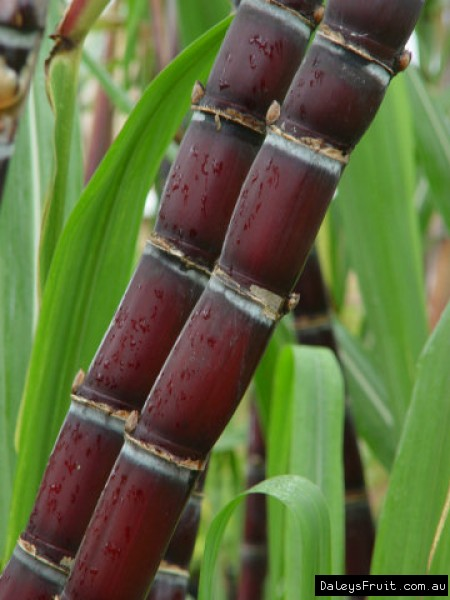cane eye: (278, 289, 300, 322), (394, 48, 415, 76), (265, 98, 282, 128), (122, 409, 141, 435), (70, 368, 88, 395), (190, 80, 205, 106), (312, 4, 326, 26)
